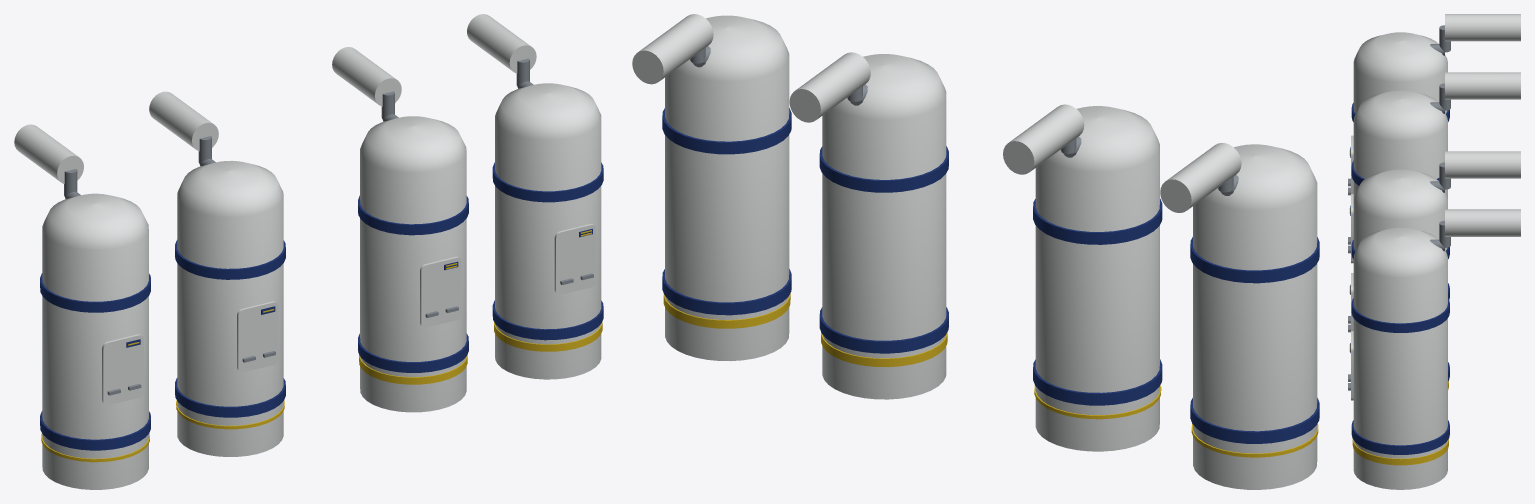
Rendered from l200_scrubber.obj.
The picture shows the model from 3 angles, left to right: view 1: azimuth 30°, elevation 25°; view 2: azimuth 150°, elevation 25°; view 3: azimuth 270°, elevation 25°; orthographic projection. The views are drawn at different scales.
Visible parts, largest first — view 1: l200_scrubber; view 2: l200_scrubber; view 3: l200_scrubber.
Boxes of the visible parts, bbox=[...] form: l200_scrubber: bbox=[14, 14, 603, 489]; l200_scrubber: bbox=[632, 14, 1319, 489]; l200_scrubber: bbox=[1348, 14, 1520, 489].
Size of the model in its own units: 5.7 by 2.91 by 1.75.
